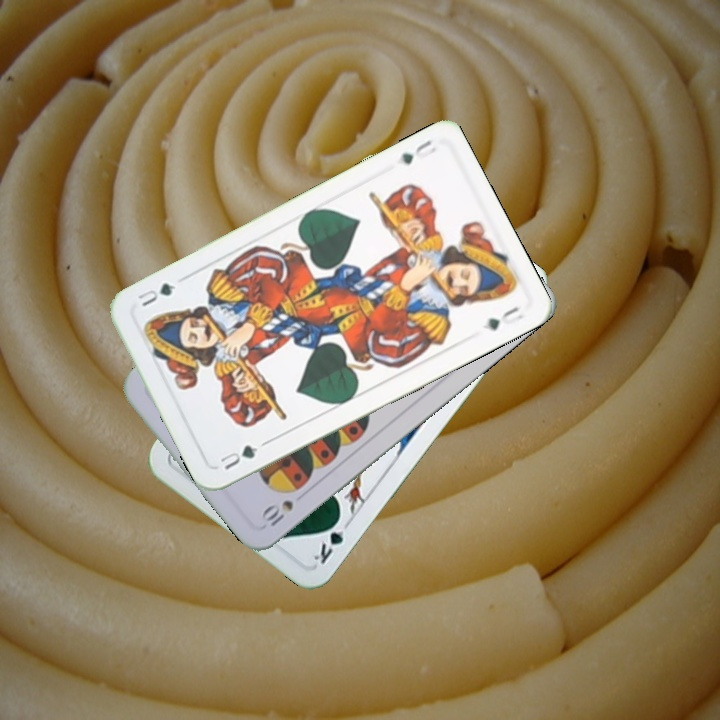GK: (309, 512, 353, 568)
GU: (216, 440, 261, 473), (394, 136, 439, 168)
S10: (257, 496, 296, 529)
